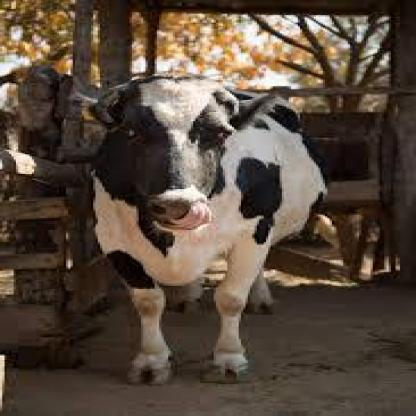cow: (71, 74, 325, 384)
